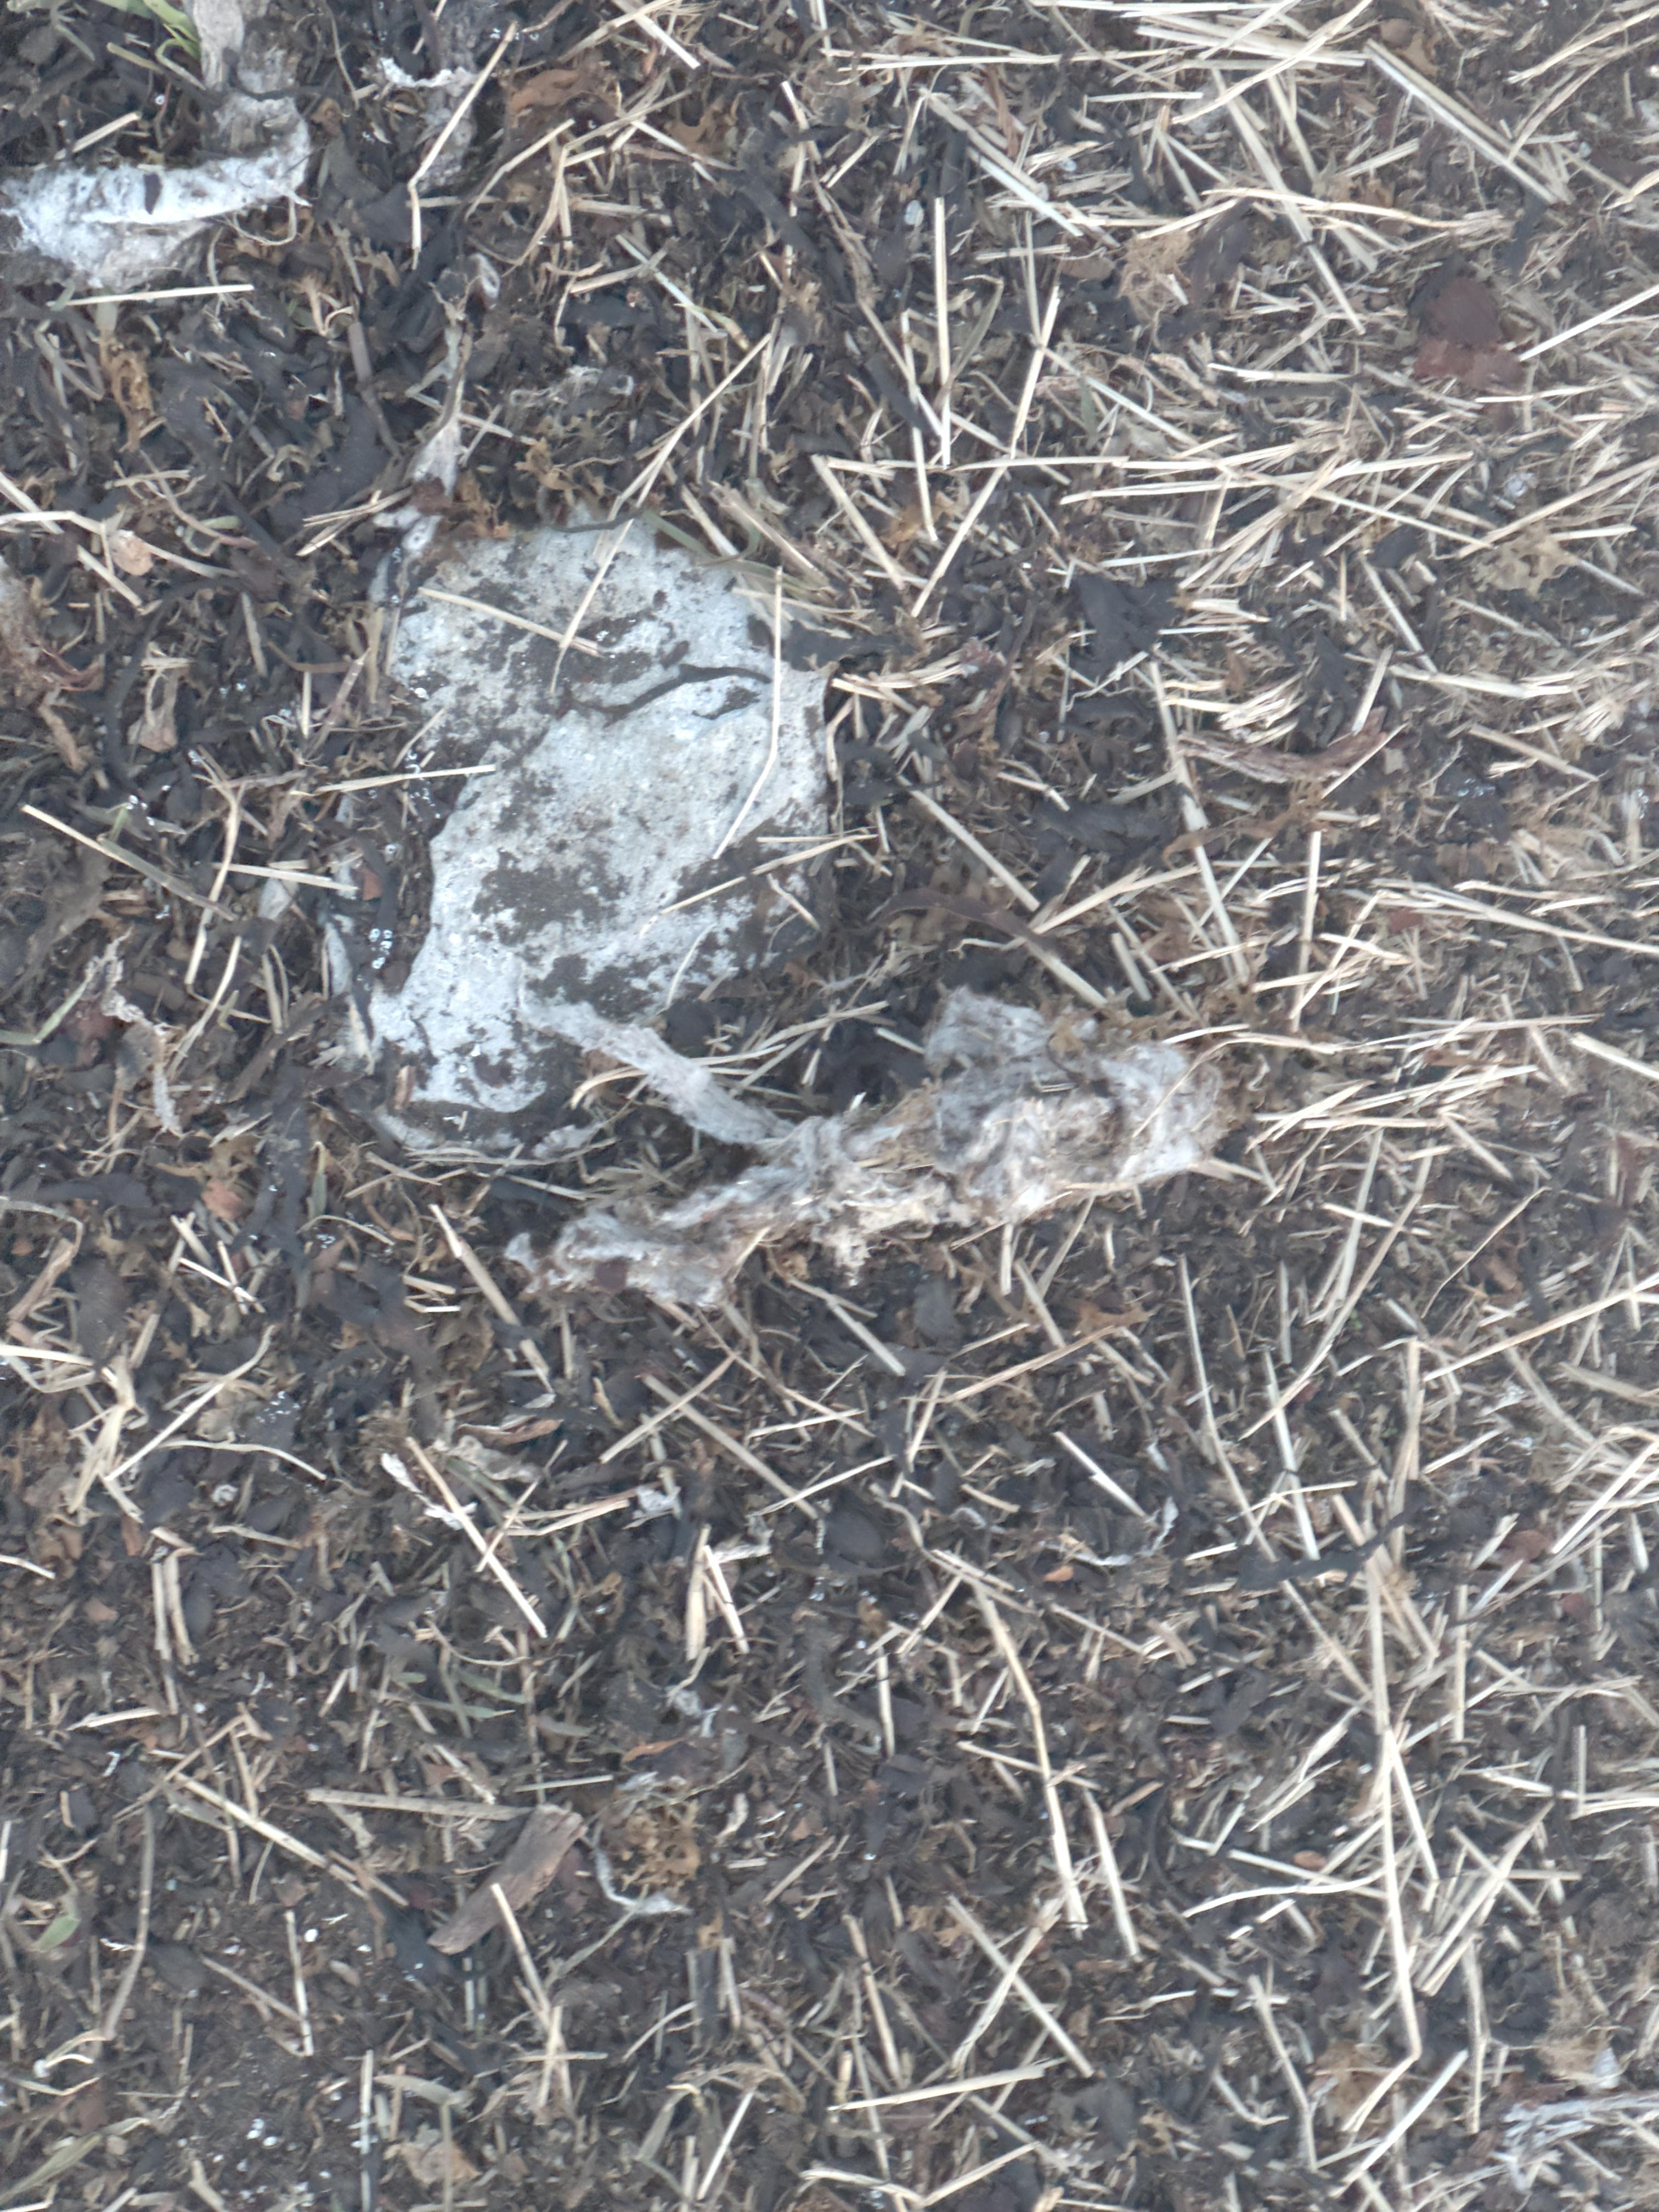trash: (511, 989, 1223, 1310), (519, 995, 795, 1150), (958, 1144, 964, 1150)
